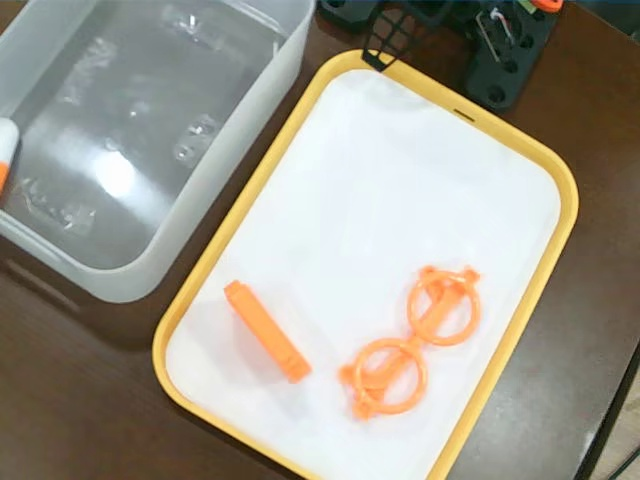pill: (0, 113, 22, 203)
